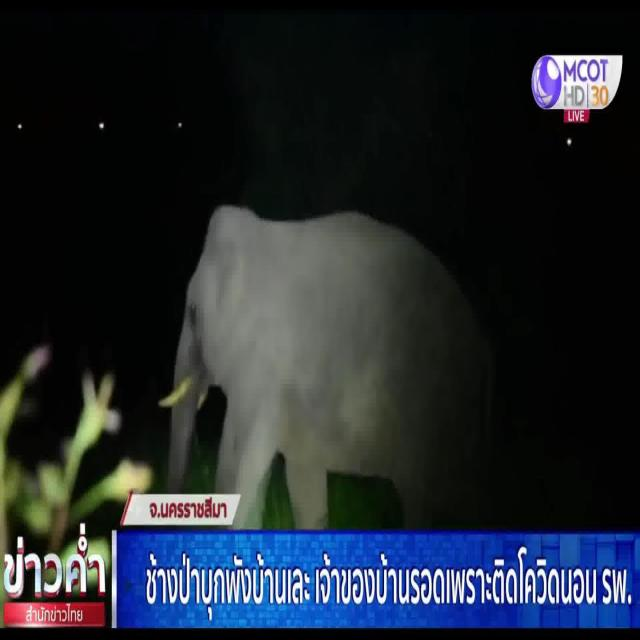Elephant: (162, 178, 456, 475)
